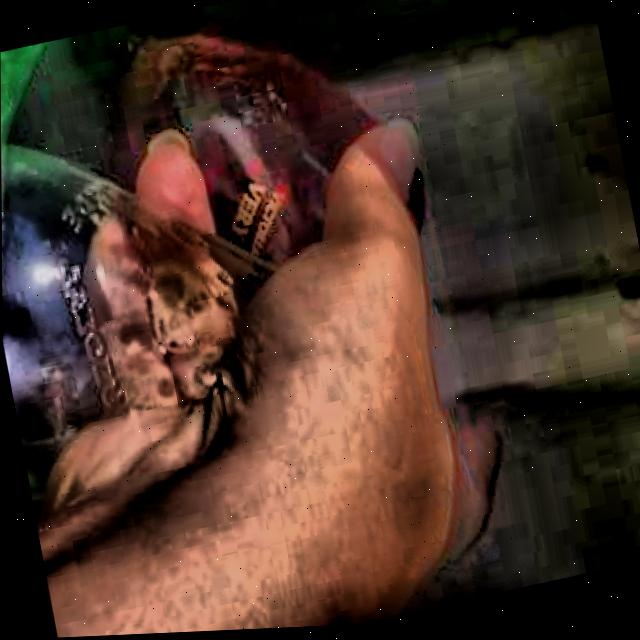glass: (121, 35, 374, 268)
plastic: (1, 133, 278, 506)
